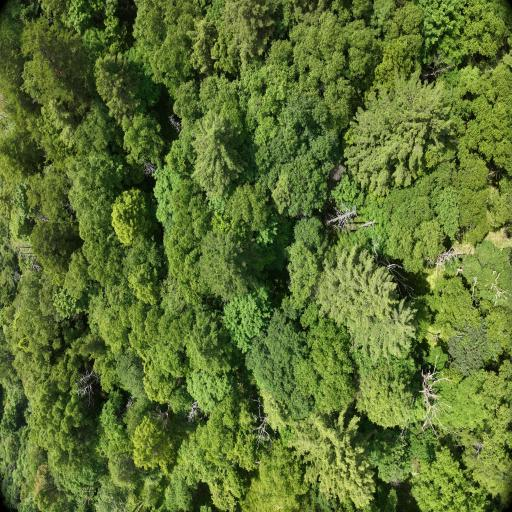dead-tree: (408, 331, 451, 438), (236, 391, 278, 460), (322, 198, 382, 243), (425, 233, 465, 279), (11, 238, 43, 283), (66, 371, 107, 404), (184, 391, 206, 429), (169, 110, 183, 142)
